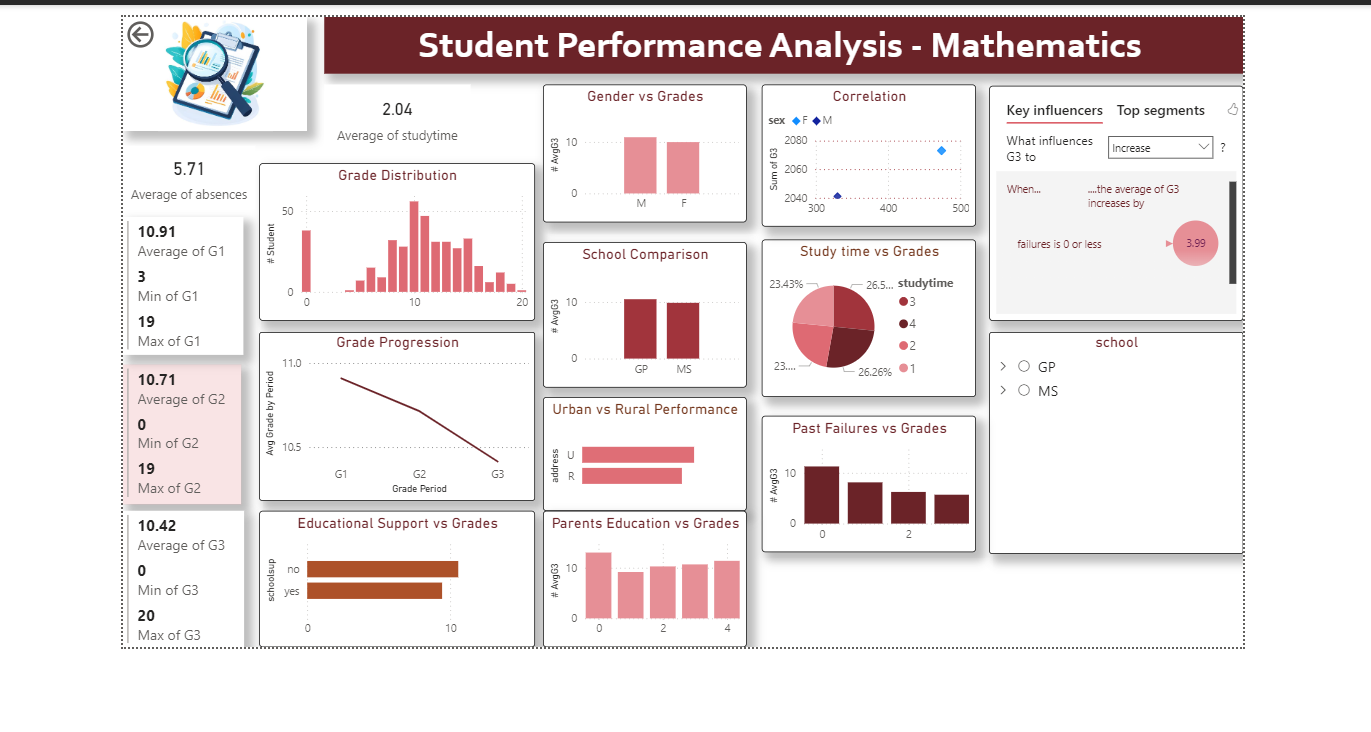

This screenshot's page, from the dashboard's own definition file:
{"tool":"powerbi","page":{"name":"Affecting Factors for Exam Scores","canvas":[1280,720],"ordinal":0},"visuals":[{"type":"textbox","box":[230,0,1050,65],"z":0},{"type":"image","box":[0,0,210,130],"z":1000},{"type":"multiRowCard","fields":{"Values":["Avg(student-mat.G1)","Min(student-mat.G1)1","Max(student-mat.G1)2"]},"box":[0,228.8,137.5,157.5],"z":2000},{"type":"multiRowCard","fields":{"Values":["Avg(student-mat.G2)","Min(student-mat.G2)1","Max(student-mat.G2)2"]},"box":[0,397.5,135,160],"z":3000},{"type":"multiRowCard","fields":{"Values":["Avg(student-mat.G3)","Min(student-mat.G3)1","Max(student-mat.G3)2"]},"box":[0,563.8,138.8,156.2],"z":4000},{"type":"actionButton","box":[0,0,100,40],"z":5000},{"type":"clusteredColumnChart","title":"Grade Distribution","fields":{"Category":["student-mat.G3"],"Y":["student-mat.# Student"]},"box":[156.2,167.5,315,180],"z":6000},{"type":"card","fields":{"Values":["Avg(student-mat.absences)"]},"box":[0,147.5,151.2,72.5],"z":7000},{"type":"card","fields":{"Values":["Avg(student-mat.studytime)"]},"box":[230,77.5,167.5,77.5],"z":8000},{"type":"lineChart","title":"Grade Progression","fields":{"Category":["GradePeriod.Grade Period"],"Y":["GradePeriod.Avg Grade by Period"]},"box":[156.2,360,315,192.5],"z":9000},{"type":"columnChart","title":"Gender vs Grades","fields":{"Category":["student-mat.sex"],"Y":["student-mat.# AvgG3"]},"box":[480,77.5,232.5,157.5],"z":10000},{"type":"columnChart","title":"School Comparison","fields":{"Category":["student-mat.school"],"Y":["student-mat.# AvgG3"]},"box":[480,257.5,232.5,166.2],"z":11000},{"type":"barChart","title":"Urban vs Rural Performance","fields":{"Category":["student-mat.address"],"Y":["student-mat.# AvgG3"]},"box":[480,433.8,232.5,130],"z":12000},{"type":"pieChart","title":"Study time vs Grades","fields":{"Y":["student-mat.# AvgG3"],"Category":["student-mat.studytime"]},"box":[730,253.8,245,180],"z":13000},{"type":"scatterChart","title":"Correlation ","fields":{"X":["Sum(student-mat.studytime)"],"Y":["Sum(student-mat.G3)"],"Size":["Sum(student-mat.absences)"],"Series":["student-mat.sex"]},"box":[730,77.5,245,162.5],"z":14000},{"type":"keyDriversVisual","fields":{"Target":["student-mat.G3"],"ExplainBy":["student-mat.studytime","student-mat.absences","student-mat.failures","student-mat.Medu","student-mat.Fedu","student-mat.Dalc","student-mat.goout"]},"box":[990,78.8,290,268.8],"z":15000},{"type":"listSlicer","fields":{"Values":["student-mat.school","student-mat.sex","student-mat.age","student-mat.studytime","student-mat.failures","student-mat.internet","student-mat.higher"]},"box":[990,360,290,253.8],"z":16000},{"type":"clusteredColumnChart","title":"Past Failures vs Grades","fields":{"Category":["student-mat.failures"],"Y":["student-mat.# AvgG3"]},"box":[730,456.2,245,156.2],"z":17000},{"type":"clusteredBarChart","title":"Educational Support vs Grades","fields":{"Category":["student-mat.schoolsup"],"Y":["student-mat.# AvgG3"]},"box":[156,564,315,156],"z":18000},{"type":"clusteredColumnChart","title":"Parents Education vs Grades","fields":{"Category":["student-mat.Fedu"],"Y":["student-mat.# AvgG3"]},"box":[480,564,233,156],"z":19000}]}

Visuals, with their boxes on the page's 1280x720 design canvas (x1, y1, x2, y2). These are canvas units, not pixel positions in the 1371x732 screenshot, which may show the page scaled, cropped or inside an application window:
textbox: rect(230, 0, 1280, 65)
image: rect(0, 0, 210, 130)
multiRowCard - Avg(student-mat.G1) x Min(student-mat.G1)1: rect(0, 229, 138, 386)
multiRowCard - Avg(student-mat.G2) x Min(student-mat.G2)1: rect(0, 398, 135, 558)
multiRowCard - Avg(student-mat.G3) x Min(student-mat.G3)1: rect(0, 564, 139, 720)
actionButton: rect(0, 0, 100, 40)
"Grade Distribution" clusteredColumnChart: rect(156, 168, 471, 348)
card - Avg(student-mat.absences): rect(0, 148, 151, 220)
card - Avg(student-mat.studytime): rect(230, 78, 398, 155)
"Grade Progression" lineChart: rect(156, 360, 471, 552)
"Gender vs Grades" columnChart: rect(480, 78, 712, 235)
"School Comparison" columnChart: rect(480, 258, 712, 424)
"Urban vs Rural Performance" barChart: rect(480, 434, 712, 564)
"Study time vs Grades" pieChart: rect(730, 254, 975, 434)
"Correlation " scatterChart: rect(730, 78, 975, 240)
keyDriversVisual - student-mat.G3 x student-mat.studytime: rect(990, 79, 1280, 348)
listSlicer - student-mat.school x student-mat.sex: rect(990, 360, 1280, 614)
"Past Failures vs Grades" clusteredColumnChart: rect(730, 456, 975, 612)
"Educational Support vs Grades" clusteredBarChart: rect(156, 564, 471, 720)
"Parents Education vs Grades" clusteredColumnChart: rect(480, 564, 713, 720)
